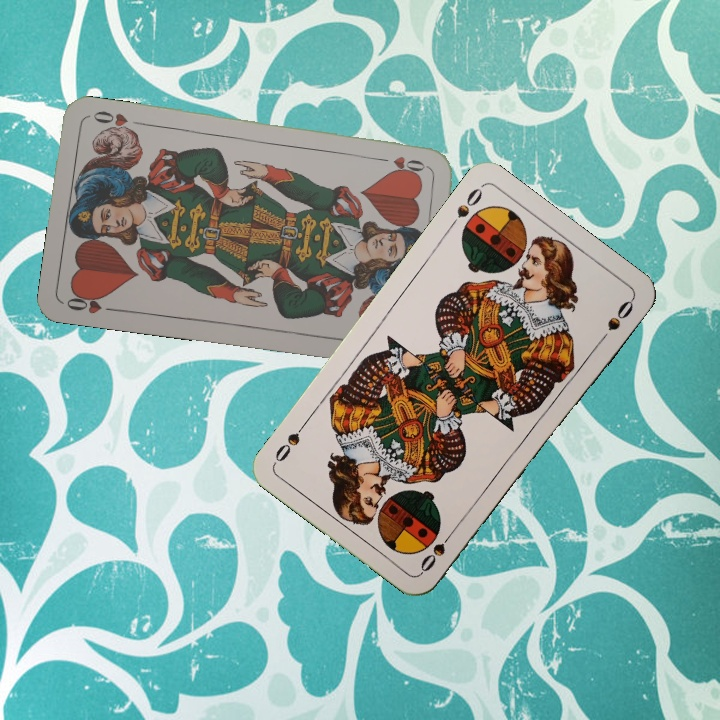HO: (62, 288, 120, 317), (373, 152, 432, 175)
SO: (416, 524, 458, 575), (444, 183, 485, 233)
